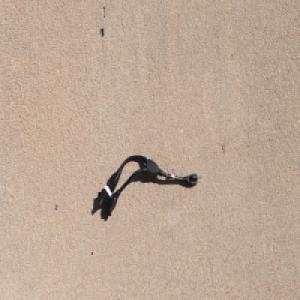Wire: (95, 153, 203, 217)
